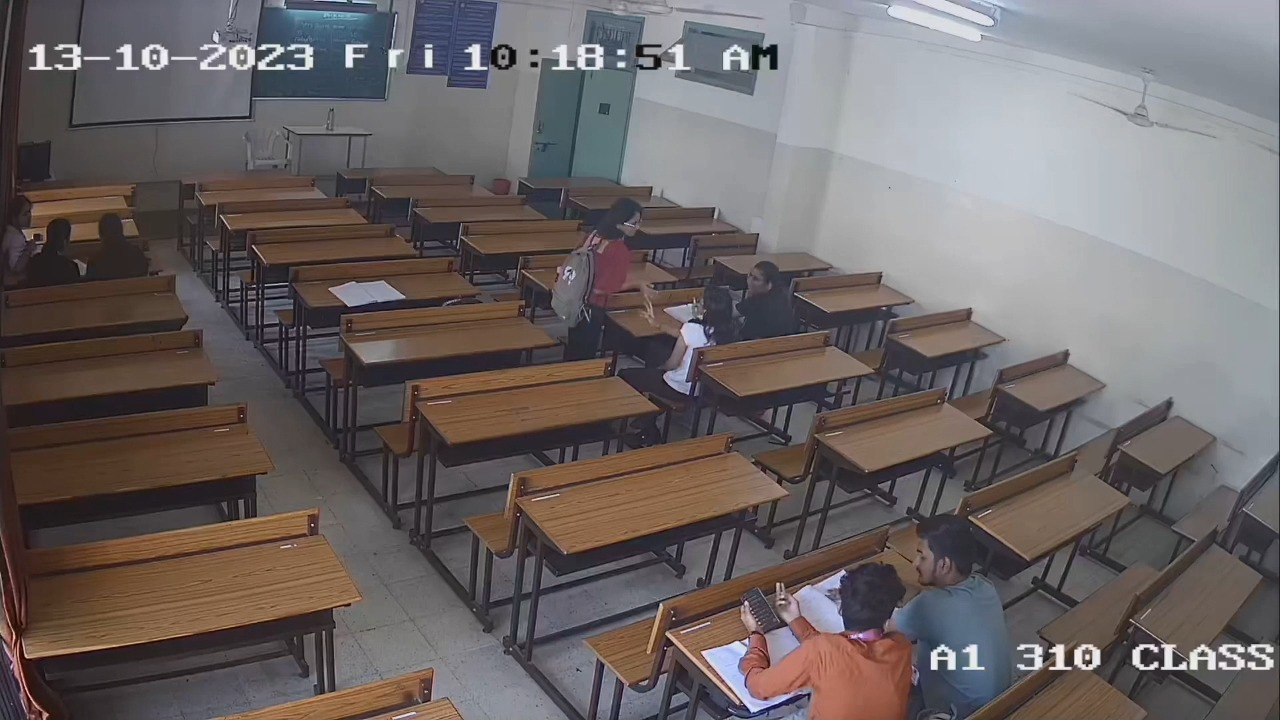cell-phones: (737, 585, 784, 634)
person: (742, 564, 914, 719)
